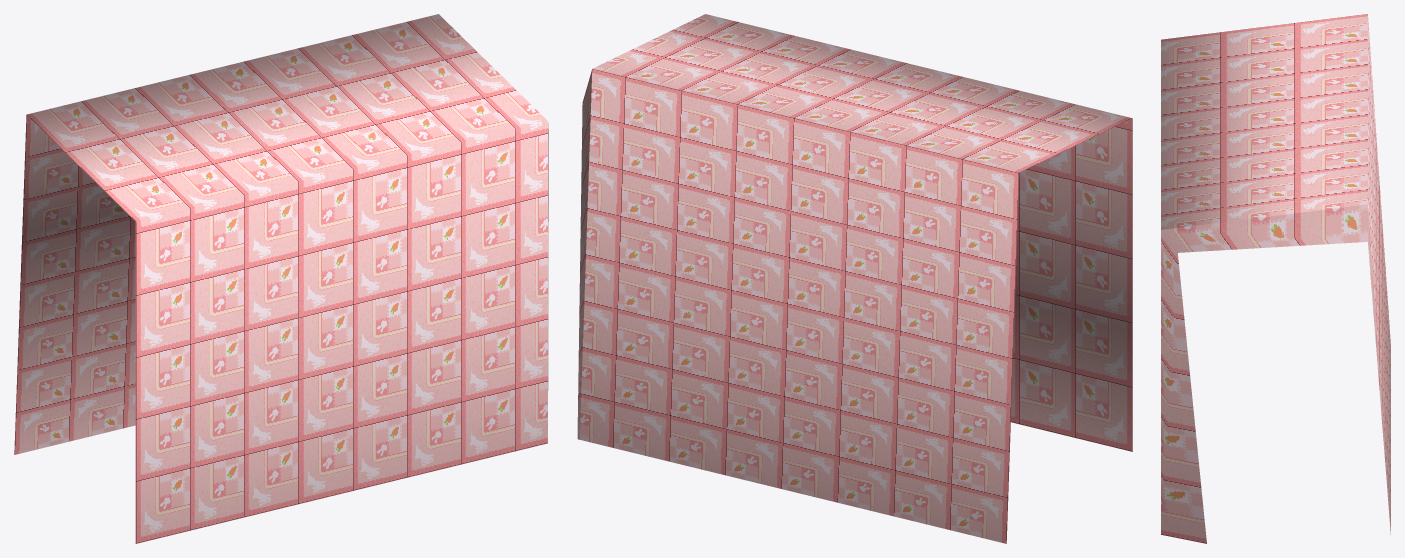
File: 4674floor000_c.gltf
The picture shows the model from 3 angles, left to right: view 1: azimuth 30°, elevation 25°; view 2: azimuth 150°, elevation 25°; view 3: azimuth 270°, elevation 25°; orthographic projection. The views are drawn at different scales.
Visible parts, largest first — view 1: 4674floor000_c; view 2: 4674floor000_c; view 3: 4674floor000_c.
Part boxes in pixels (bbox=[...]): 4674floor000_c: bbox=[14, 14, 548, 543]; 4674floor000_c: bbox=[577, 14, 1132, 543]; 4674floor000_c: bbox=[1161, 14, 1390, 543].
Bounding box in the file's own units: 2.05 × 1.59 × 1.
1 material, 1 textured.
